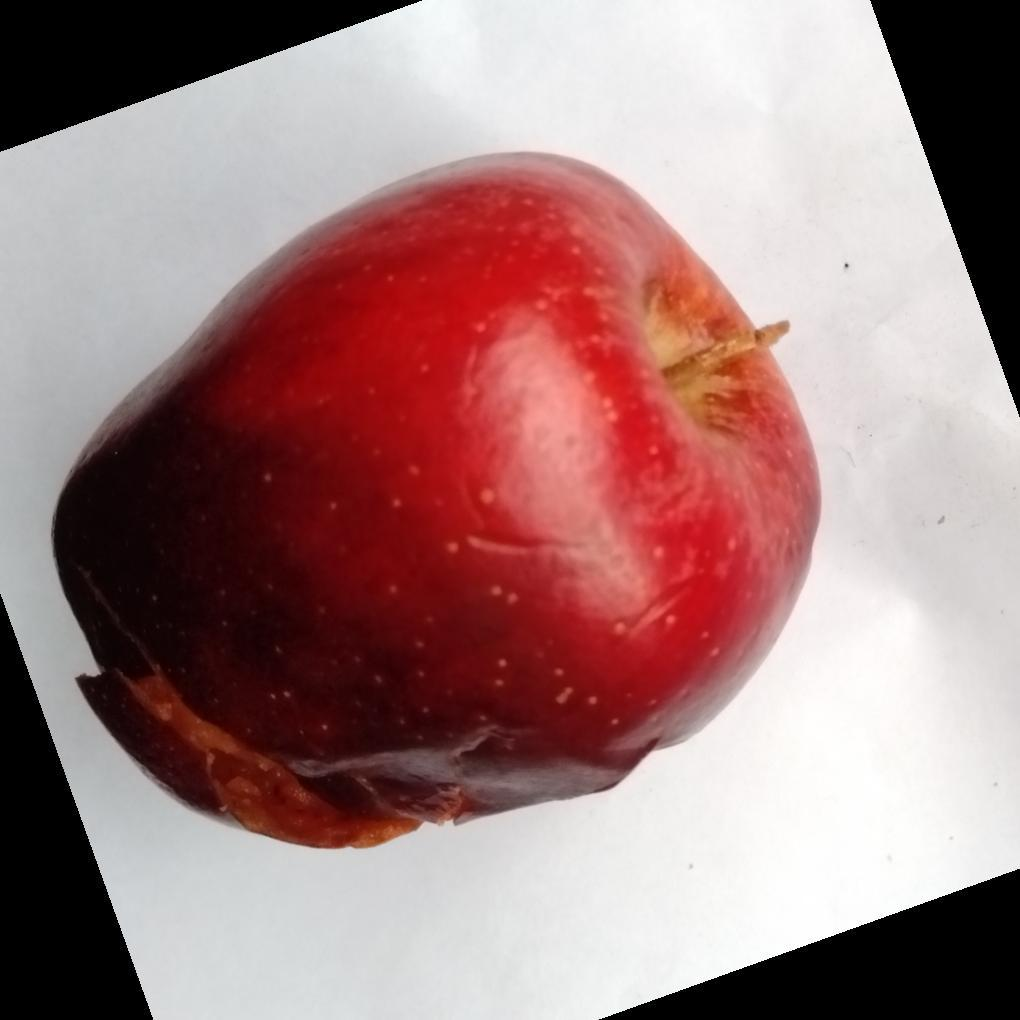FreshOrange: (50, 151, 824, 854)
